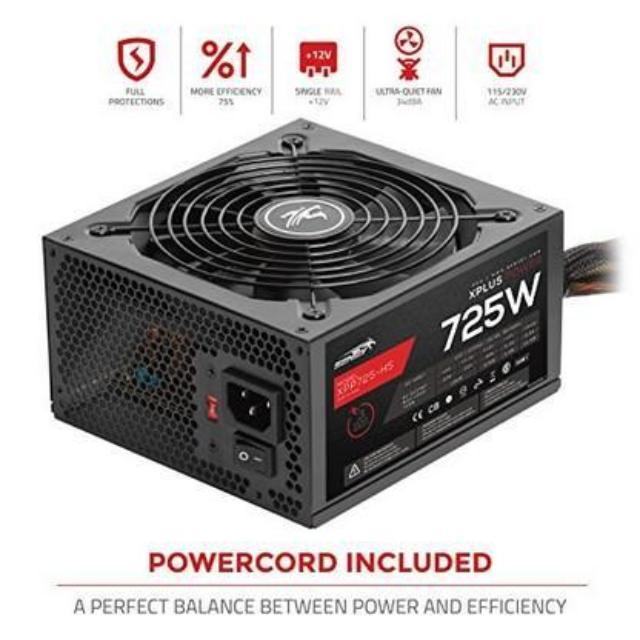PSU: (38, 120, 576, 531)
